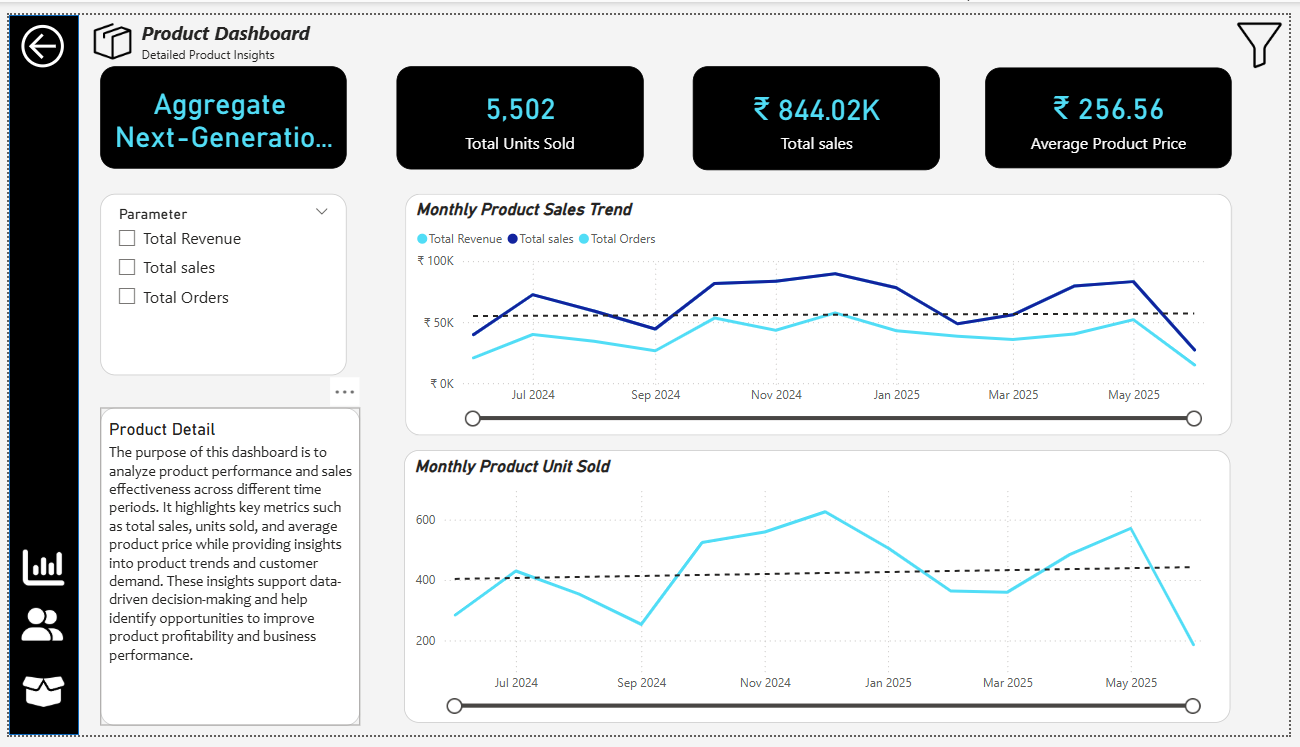

Layout of this report page (visuals, bound fields, positions):
{"tool":"powerbi","page":{"name":"Product","canvas":[1280,720],"ordinal":2},"visuals":[{"type":"shape","box":[0,0,70,720],"z":0},{"type":"card","fields":{"Values":["Min(Product_Dim.ProductName)"]},"box":[91.8,51.2,246.6,102.7],"z":1000},{"type":"card","fields":{"Values":["Measure.Total Units Sold"]},"box":[387.8,51.8,246.9,103.1],"z":2000},{"type":"card","fields":{"Values":["Measure.Total sales"]},"box":[684.1,51.2,247.5,103.8],"z":3000},{"type":"card","fields":{"Values":["Measure.Average Product Price"]},"box":[975.6,52.6,246,101],"z":4000},{"type":"image","box":[1221.4,7.1,58.6,45.7],"z":5000},{"type":"textbox","box":[127.1,0,247.1,87.1],"z":6000},{"type":"image","box":[80,0,47.1,52.9],"z":7000},{"type":"actionButton","box":[6.8,4.1,54.8,54.8],"z":8000},{"type":"image","box":[14.3,657.1,41.4,38.6],"z":9000},{"type":"image","box":[12.9,590.7,41.4,35.7],"z":10000},{"type":"image","box":[14.3,534.3,41.4,37.1],"z":11000},{"type":"lineChart","title":"Monthly Product Sales Trend","fields":{"Category":["Date_Dim.Start of Month.Variation.Date Hierarchy.Year","Date_Dim.Start of Month.Variation.Date Hierarchy.Quarter","Date_Dim.Start of Month.Variation.Date Hierarchy.Month","Date_Dim.Start of Month.Variation.Date Hierarchy.Day"],"Y":["Measure.Total Revenue","Measure.Total sales","Measure.Total Orders"]},"box":[396.2,178.8,826.2,241.2],"z":12000},{"type":"slicer","fields":{"Values":["Parameter.Parameter"]},"box":[91.2,178.8,246.2,181.2],"z":17000},{"type":"lineChart","title":"Monthly Product Unit Sold","fields":{"Category":["Date_Dim.Date.Variation.Date Hierarchy.Year","Date_Dim.Date.Variation.Date Hierarchy.Quarter","Date_Dim.Date.Variation.Date Hierarchy.Month","Date_Dim.Date.Variation.Date Hierarchy.Day"],"Y":["Measure.Total Units Sold"]},"box":[395,435,826.2,272.5],"z":18000},{"type":"textbox","title":"Product Detail ","box":[91.2,392.5,260,318.8],"z":19000}]}

Visuals, with their boxes on the page's 1280x720 design canvas (x1, y1, x2, y2). These are canvas units, not pixel positions in the 1300x747 screenshot, which may show the page scaled, cropped or inside an application window:
shape: pyautogui.locateOnScreen(0, 0, 70, 720)
card - Min(Product_Dim.ProductName): pyautogui.locateOnScreen(92, 51, 338, 154)
card - Measure.Total Units Sold: pyautogui.locateOnScreen(388, 52, 635, 155)
card - Measure.Total sales: pyautogui.locateOnScreen(684, 51, 932, 155)
card - Measure.Average Product Price: pyautogui.locateOnScreen(976, 53, 1222, 154)
image: pyautogui.locateOnScreen(1221, 7, 1280, 53)
textbox: pyautogui.locateOnScreen(127, 0, 374, 87)
image: pyautogui.locateOnScreen(80, 0, 127, 53)
actionButton: pyautogui.locateOnScreen(7, 4, 62, 59)
image: pyautogui.locateOnScreen(14, 657, 56, 696)
image: pyautogui.locateOnScreen(13, 591, 54, 626)
image: pyautogui.locateOnScreen(14, 534, 56, 571)
"Monthly Product Sales Trend" lineChart: pyautogui.locateOnScreen(396, 179, 1222, 420)
slicer - Parameter.Parameter: pyautogui.locateOnScreen(91, 179, 337, 360)
"Monthly Product Unit Sold" lineChart: pyautogui.locateOnScreen(395, 435, 1221, 708)
"Product Detail " textbox: pyautogui.locateOnScreen(91, 392, 351, 711)
